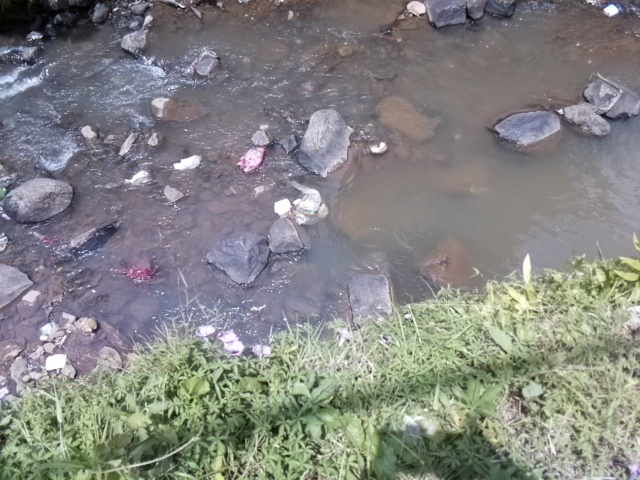Sampah_Plastik: (292, 184, 326, 227), (238, 147, 265, 176), (121, 266, 159, 284)
Sampah_Styrofoam: (173, 156, 198, 172), (44, 354, 67, 371), (602, 1, 619, 19), (274, 200, 289, 216)
